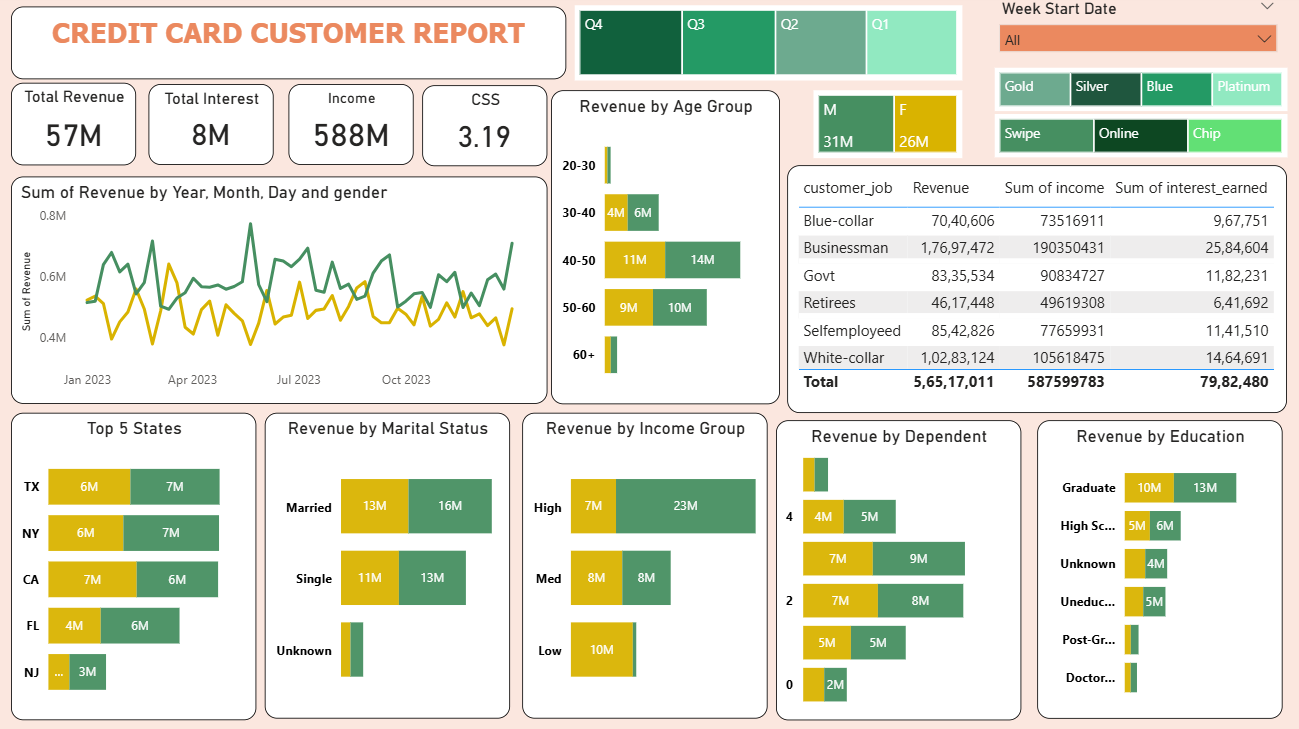

This screenshot's page, from the dashboard's own definition file:
{"tool":"powerbi","page":{"name":"CC Custtomer","canvas":[1280,720],"ordinal":2},"visuals":[{"type":"textbox","box":[19.6,12.2,542.9,70.9],"z":0},{"type":"barChart","title":" Revenue by Income Group","fields":{"Y":["Sum(public cc_detail.Revenue)"],"Category":["public cust_detail.IncomeGroup"],"Series":["public cust_detail.gender"]},"box":[519.7,409.6,239.7,299.6],"z":1000},{"type":"tableEx","fields":{"Values":["public cust_detail.customer_job","Sum(public cc_detail.Revenue)","Sum(public cust_detail.income)","Sum(public cc_detail.interest_earned)"]},"box":[778.9,167.5,489.1,242.1],"z":2000},{"type":"card","title":"Total Revenue","fields":{"Values":["Sum(public cc_detail.Revenue)"]},"box":[19.6,86.8,122.3,80.7],"z":3000},{"type":"card","title":"Income","fields":{"Values":["Sum(public cust_detail.income)"]},"box":[291,88,122.3,79.5],"z":4000},{"type":"card","title":"Total Interest","fields":{"Values":["Sum(public cc_detail.interest_earned)"]},"box":[154.1,88,122.3,79.5],"z":5000},{"type":"card","title":"CSS","fields":{"Values":["Avg(public cust_detail.cust_satisfaction_score)"]},"box":[425.5,88,122.3,79.5],"z":6000},{"type":"slicer","fields":{"Values":["public cc_detail.week_start_date"]},"box":[975.8,0,292.3,69.7],"z":7000},{"type":"treemap","fields":{"Group":["public cc_detail.qtr"],"Values":["Avg(public cc_detail.client_num)"]},"box":[571.1,11,379.1,73.4],"z":8000},{"type":"treemap","fields":{"Values":["Avg(public cc_detail.client_num)"],"Group":["public cc_detail.card_category"]},"box":[981.9,72.1,286.1,42.8],"z":10000},{"type":"treemap","fields":{"Group":["public cust_detail.gender"],"Values":["Sum(public cc_detail.Revenue)"]},"box":[804.6,94.2,145.5,66],"z":12000},{"type":"barChart","title":" Revenue by Age Group","fields":{"Y":["Sum(public cc_detail.Revenue)"],"Category":["public cust_detail.AgeGroup"],"Series":["public cust_detail.gender"]},"box":[555.2,94.2,212.8,306.9],"z":13000},{"type":"barChart","title":" Revenue by Dependent","fields":{"Y":["Sum(public cc_detail.Revenue)"],"Category":["public cust_detail.dependent_count"],"Series":["public cust_detail.gender"]},"box":[767.9,417,239.7,293.5],"z":14000},{"type":"barChart","title":" Revenue by Education","fields":{"Y":["Sum(public cc_detail.Revenue)"],"Category":["public cust_detail.education_level"],"Series":["public cust_detail.gender"]},"box":[1023.5,426.8,239.7,282.5],"z":15000},{"type":"barChart","title":"Top 5 States","fields":{"Y":["Sum(public cc_detail.Revenue)"],"Category":["public cust_detail.state_cd"],"Series":["public cust_detail.gender"]},"box":[19.6,409.6,240,300.8],"z":16000},{"type":"barChart","title":" Revenue by Marital Status","fields":{"Y":["Sum(public cc_detail.Revenue)"],"Category":["public cust_detail.marital_status"],"Series":["public cust_detail.gender"]},"box":[267.8,409.6,239.7,299.6],"z":17000},{"type":"lineChart","fields":{"Y":["Sum(public cc_detail.Revenue)"],"Series":["public cust_detail.gender"],"Category":["public cc_detail.week_start_date.Variation.Date Hierarchy.Year","public cc_detail.week_start_date.Variation.Date Hierarchy.Month","public cc_detail.week_start_date.Variation.Date Hierarchy.Day"]},"box":[19.6,178.5,524.6,222.6],"z":18000},{"type":"treemap","fields":{"Values":["Avg(public cc_detail.client_num)"],"Group":["public cc_detail.use_chip"]},"box":[981.9,117.4,286.1,42.8],"z":18001}]}

Visuals, with their boxes in screenshot pixels (x1, y1, x2, y2), scaled from the page's 1280x720 canvas onto the 1299x729 screenshot:
textbox: <box>20,12,571,84</box>
" Revenue by Income Group" barChart: <box>527,415,771,718</box>
tableEx - public cust_detail.customer_job x Sum(public cc_detail.Revenue): <box>790,170,1287,415</box>
"Total Revenue" card: <box>20,88,144,170</box>
"Income" card: <box>295,89,419,170</box>
"Total Interest" card: <box>156,89,281,170</box>
"CSS" card: <box>432,89,556,170</box>
slicer - public cc_detail.week_start_date: <box>990,0,1287,71</box>
treemap - public cc_detail.qtr x Avg(public cc_detail.client_num): <box>580,11,964,85</box>
treemap - Avg(public cc_detail.client_num) x public cc_detail.card_category: <box>996,73,1287,116</box>
treemap - public cust_detail.gender x Sum(public cc_detail.Revenue): <box>817,95,964,162</box>
" Revenue by Age Group" barChart: <box>563,95,779,406</box>
" Revenue by Dependent" barChart: <box>779,422,1023,719</box>
" Revenue by Education" barChart: <box>1039,432,1282,718</box>
"Top 5 States" barChart: <box>20,415,263,719</box>
" Revenue by Marital Status" barChart: <box>272,415,515,718</box>
lineChart - Sum(public cc_detail.Revenue) x public cust_detail.gender: <box>20,181,552,406</box>
treemap - Avg(public cc_detail.client_num) x public cc_detail.use_chip: <box>996,119,1287,162</box>
